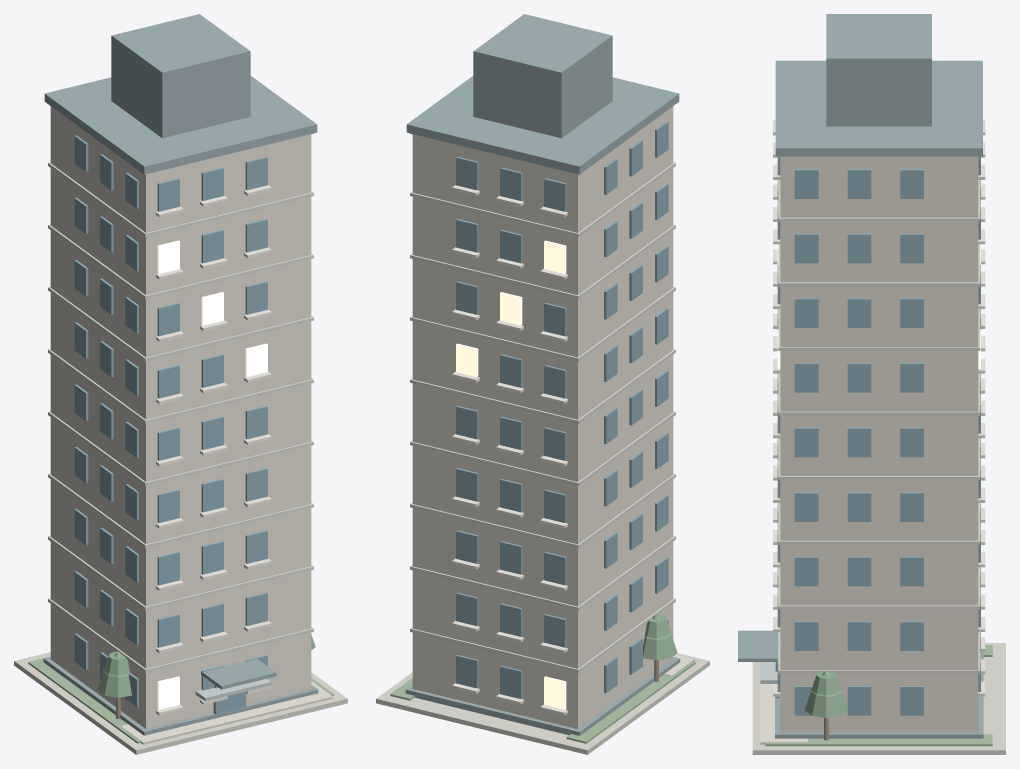
File: remaster_office_4.glb
The picture shows the model from 3 angles, left to right: view 1: azimuth 30°, elevation 25°; view 2: azimuth 150°, elevation 25°; view 3: azimuth 270°, elevation 25°; orthographic projection. The views are drawn at different scales.
Parts seen in each view (by area): view 1: remaster_office_4 cream, remaster_office_4 roof, remaster_office_4 glass, remaster_office_4 stone, remaster_office_4 white, remaster_office_4 warm, remaster_office_4 green, remaster_office_4 leaf, remaster_office_4 metal; view 2: remaster_office_4 cream, remaster_office_4 roof, remaster_office_4 glass, remaster_office_4 stone, remaster_office_4 white, remaster_office_4 warm, remaster_office_4 green, remaster_office_4 leaf; view 3: remaster_office_4 cream, remaster_office_4 roof, remaster_office_4 glass, remaster_office_4 stone, remaster_office_4 white, remaster_office_4 green, remaster_office_4 leaf.
Boxes of the visible parts, x1,y1,x2,y2 form: remaster_office_4 cream: [50, 106, 332, 744]; remaster_office_4 roof: [43, 14, 318, 735]; remaster_office_4 glass: [74, 135, 267, 714]; remaster_office_4 stone: [14, 133, 347, 754]; remaster_office_4 white: [156, 185, 271, 715]; remaster_office_4 warm: [157, 240, 267, 709]; remaster_office_4 green: [28, 657, 333, 743]; remaster_office_4 leaf: [97, 635, 315, 697]; remaster_office_4 metal: [195, 678, 271, 701]; remaster_office_4 cream: [412, 106, 694, 728]; remaster_office_4 roof: [405, 14, 680, 735]; remaster_office_4 glass: [456, 121, 668, 698]; remaster_office_4 stone: [376, 133, 709, 754]; remaster_office_4 white: [452, 185, 567, 715]; remaster_office_4 warm: [456, 240, 566, 709]; remaster_office_4 green: [390, 661, 695, 743]; remaster_office_4 leaf: [643, 614, 677, 660]; remaster_office_4 cream: [760, 157, 978, 744]; remaster_office_4 roof: [738, 14, 983, 738]; remaster_office_4 glass: [775, 156, 980, 715]; remaster_office_4 stone: [752, 156, 1005, 754]; remaster_office_4 white: [773, 120, 985, 696]; remaster_office_4 green: [765, 645, 992, 746]; remaster_office_4 leaf: [804, 670, 848, 717].
Bounding box in the file's own units: 9.64 × 27.8 × 10.15.
